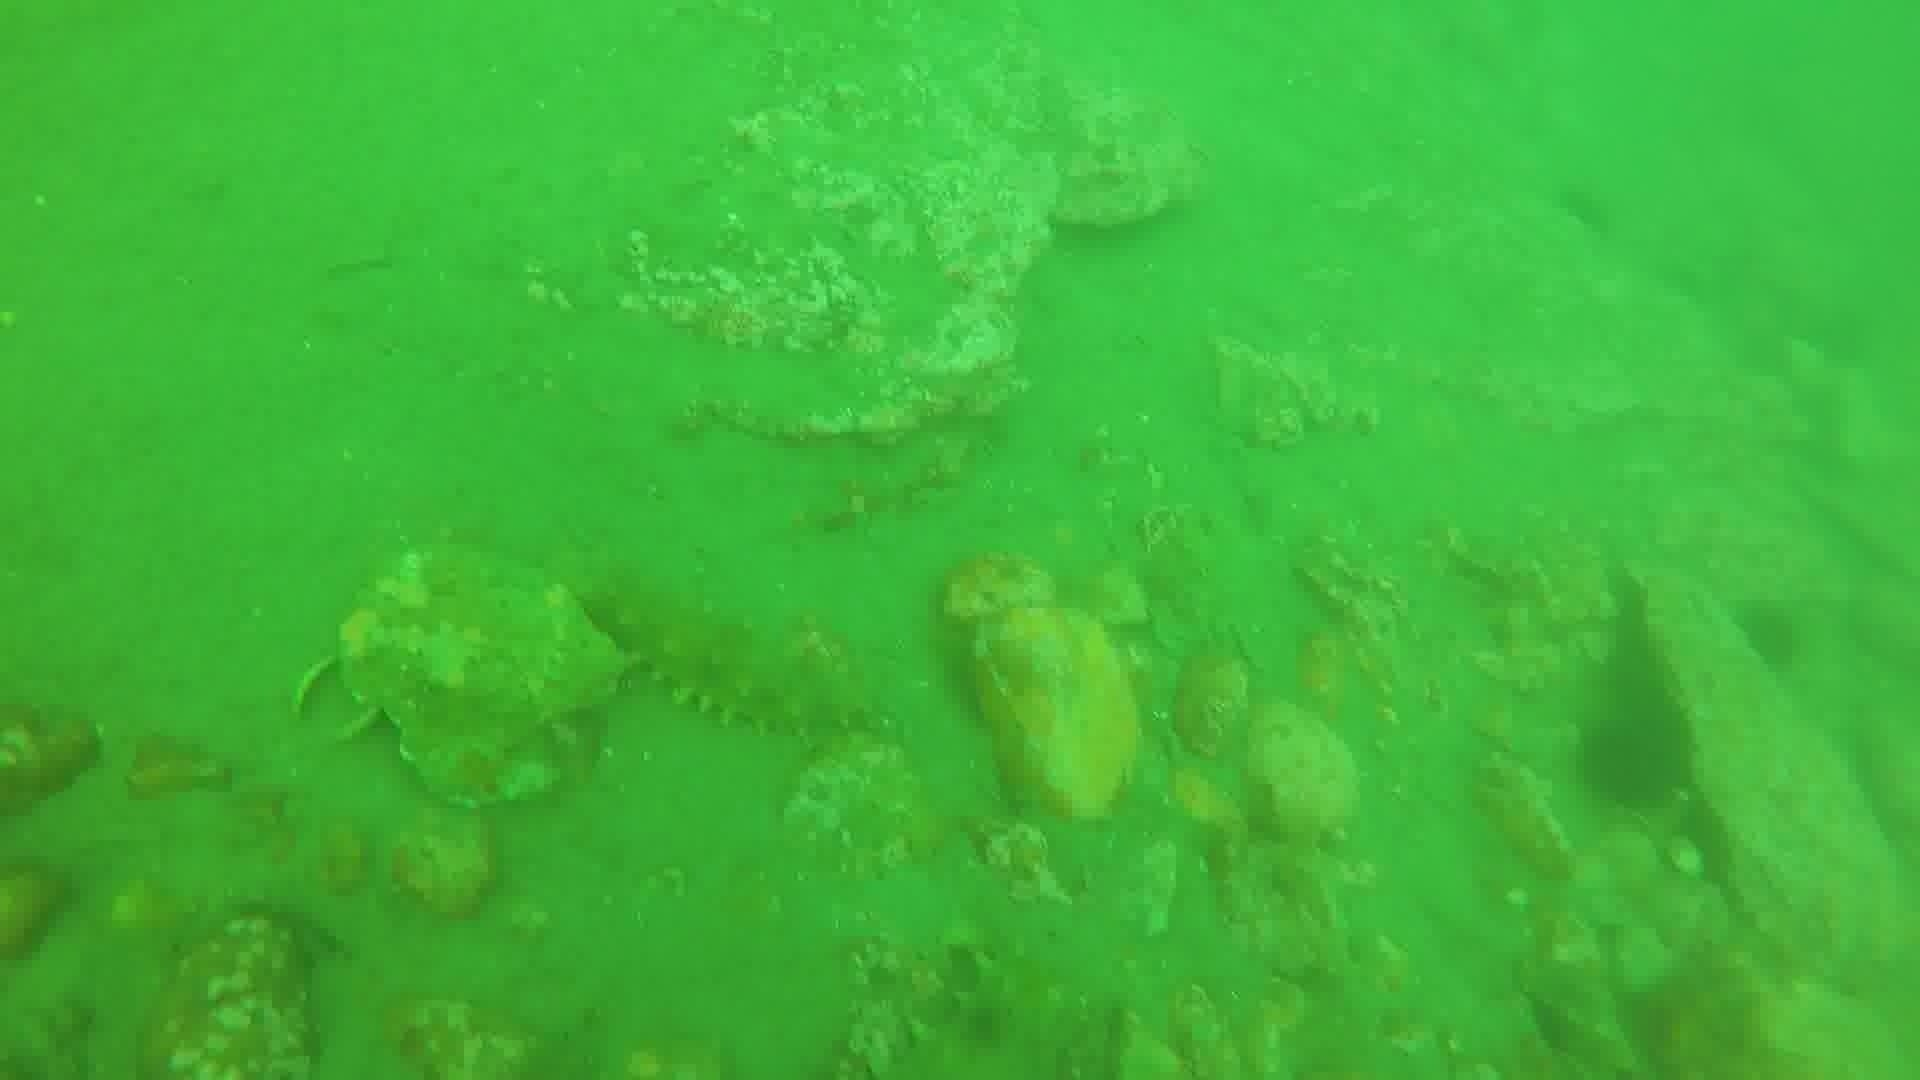echinus: (1573, 698, 1698, 816), (1730, 596, 1809, 676)
holothurian: (582, 567, 878, 744)
